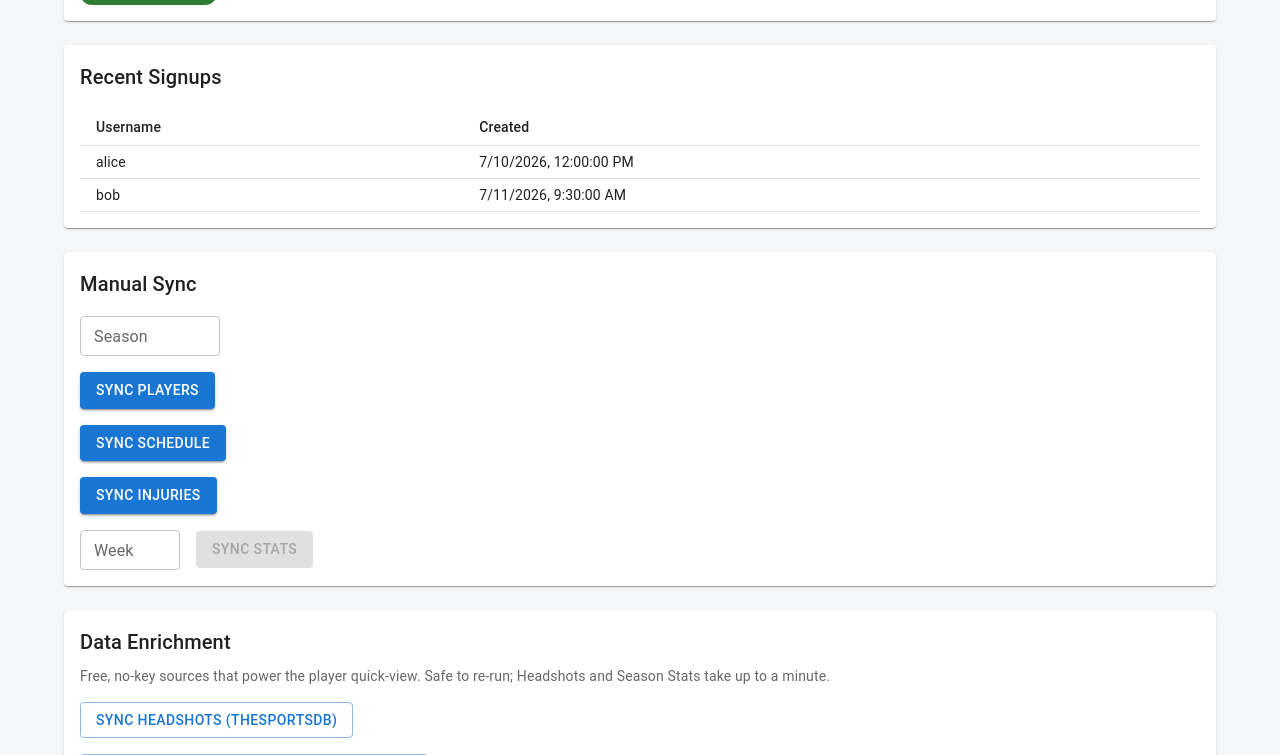
Test: a 503 from the server while syncing is surfaced as an error alert
(page scrolled)
Click the button "Sync Players" at [148, 390], box [80,372,215,408]
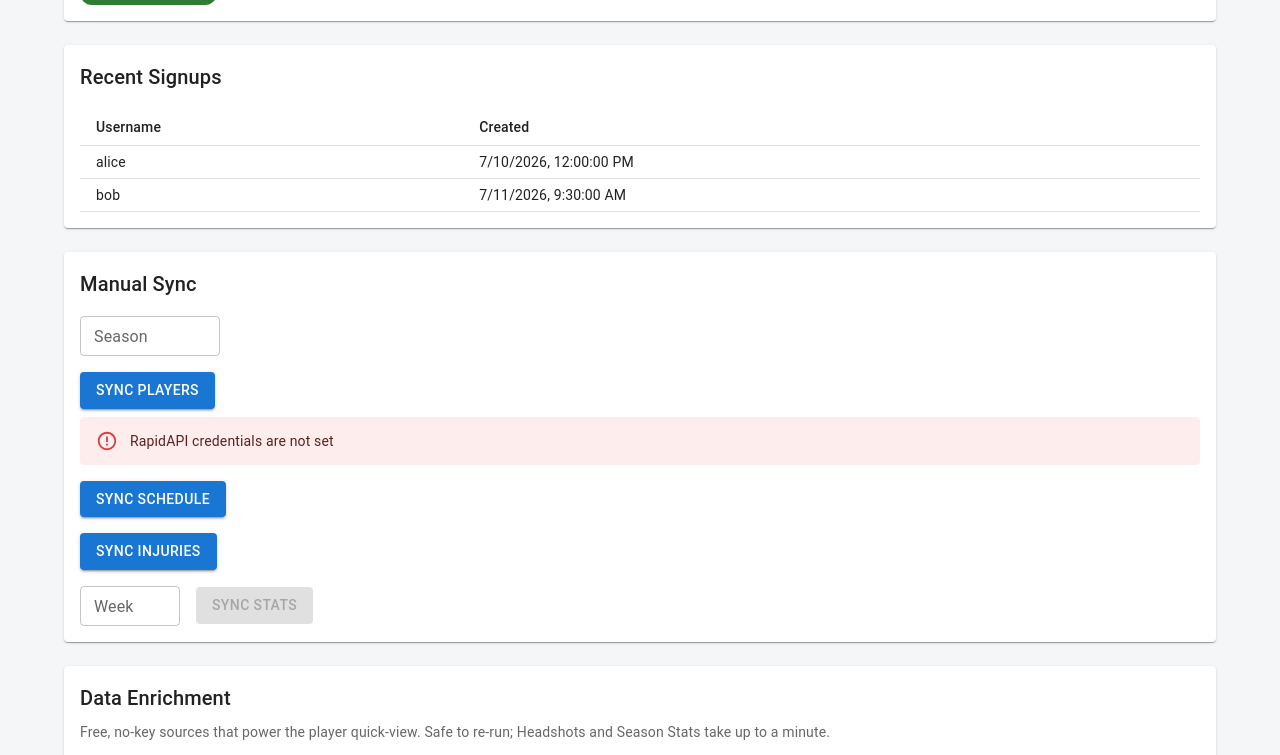
Expected: the text "RapidAPI credentials are not set" is shown, [130,432,334,448]
